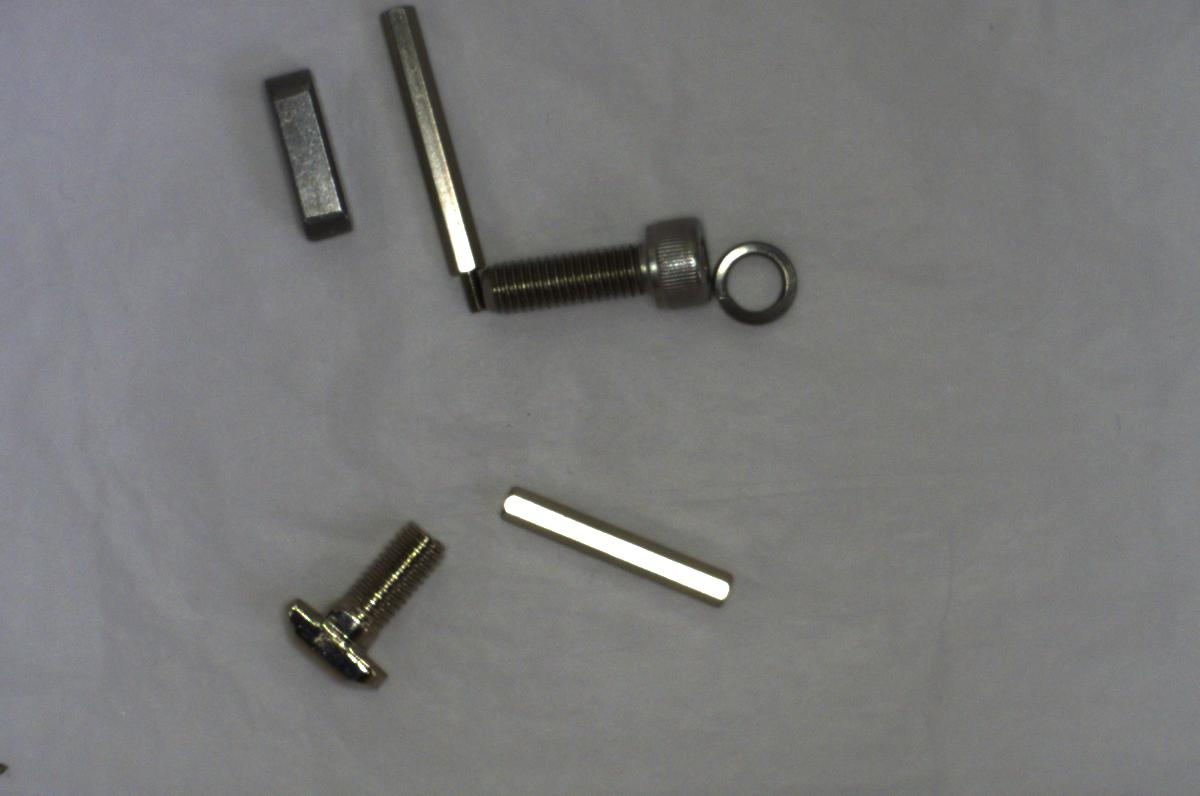Double hexagonal column: (488, 474, 739, 612)
Hexagon screw: (464, 210, 714, 330)
Hexagonal steel column: (377, 5, 487, 322)
Keybar: (248, 60, 359, 245)
Spring washer: (702, 230, 800, 334)
T-shaped screw: (260, 512, 451, 693)
